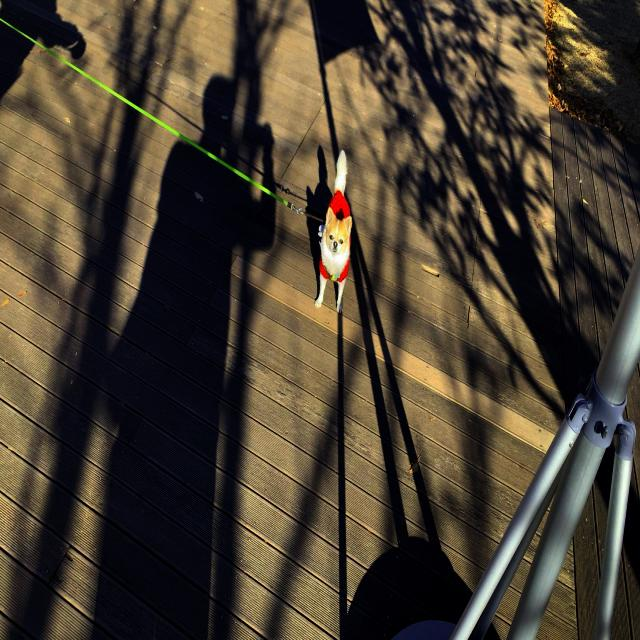Dog: (314, 150, 353, 315)
